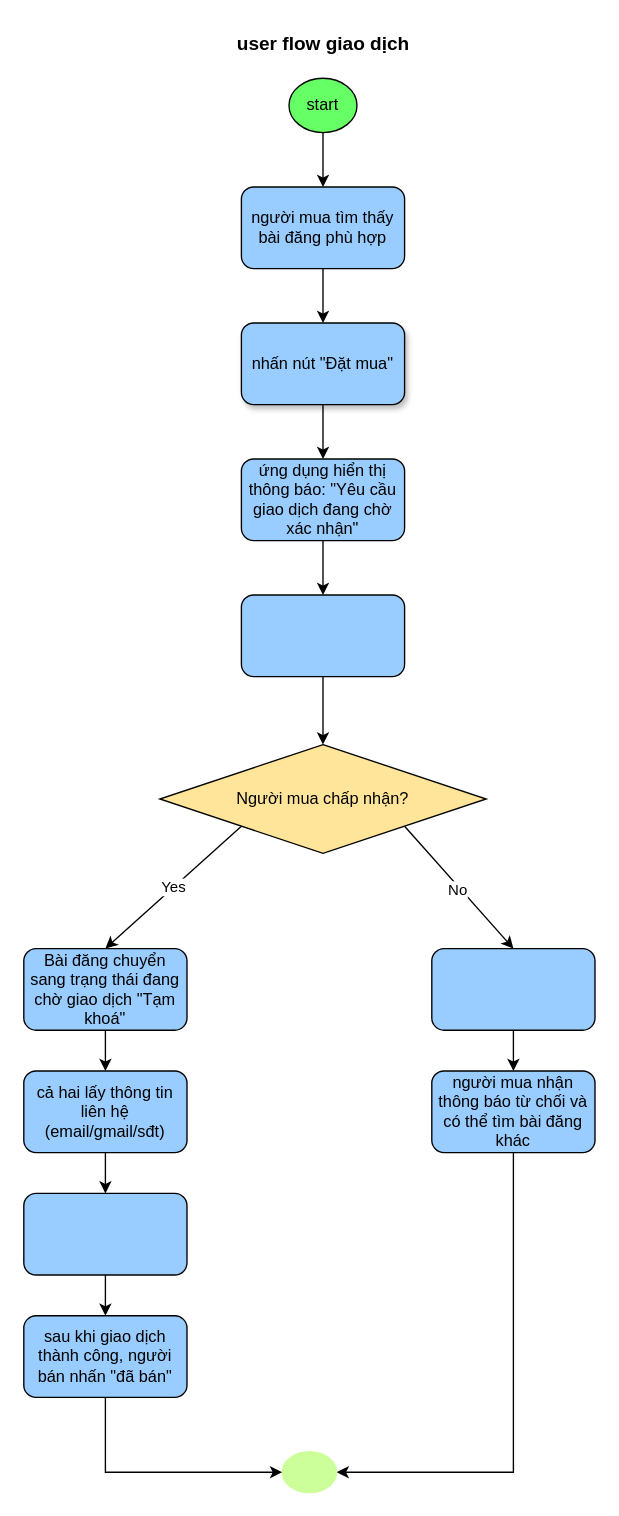
Some shapes in this 619 by 1516 pixel diagram are drawn without their labels. Here are the shapes that lost their labels. From the top down, the centre of each, then its label:
the point at 322,635: người bán mở ứng dụng và xem yêu cầu giao dịch
the point at 512,988: yêu cầu giao dịch bị từ chối , bài đăng vẫn hiển thị công khai
the point at 104,1233: người mua và người bán liên hệ ngoài ứng dụng để hẹn gặp
the point at 309,1471: end
